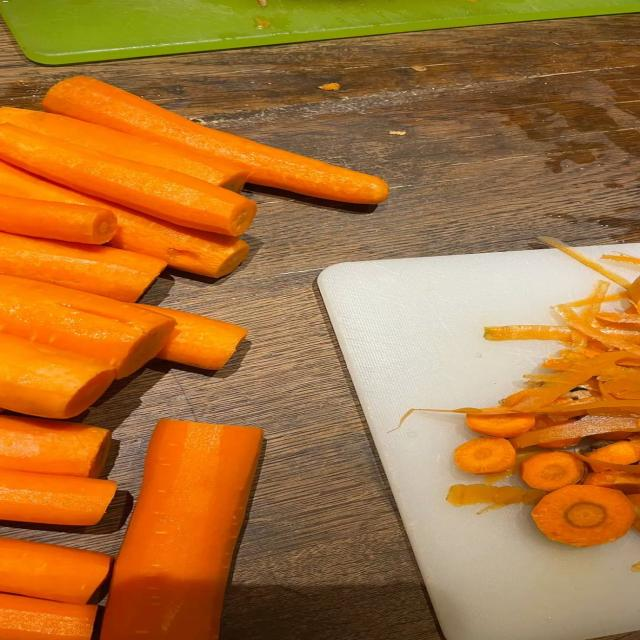carrot: (43, 76, 388, 204), (101, 420, 262, 639), (0, 161, 249, 277), (0, 124, 256, 235), (0, 108, 247, 191), (0, 275, 174, 377), (0, 232, 166, 301), (0, 333, 114, 419), (0, 538, 111, 604), (0, 416, 111, 477), (142, 305, 247, 369), (0, 470, 116, 525), (532, 485, 634, 546), (0, 195, 117, 244), (539, 237, 630, 289), (0, 594, 97, 639), (512, 416, 639, 448), (447, 484, 546, 510), (520, 452, 586, 491), (454, 437, 515, 474), (466, 414, 535, 437), (573, 452, 639, 475), (484, 325, 572, 341), (584, 471, 639, 493), (587, 441, 639, 464), (534, 415, 575, 430), (627, 494, 639, 531), (601, 253, 639, 264), (628, 277, 639, 303), (598, 432, 629, 440)
